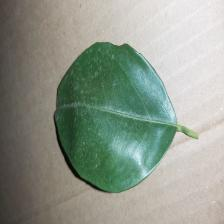healthy: (60, 57, 166, 170)
